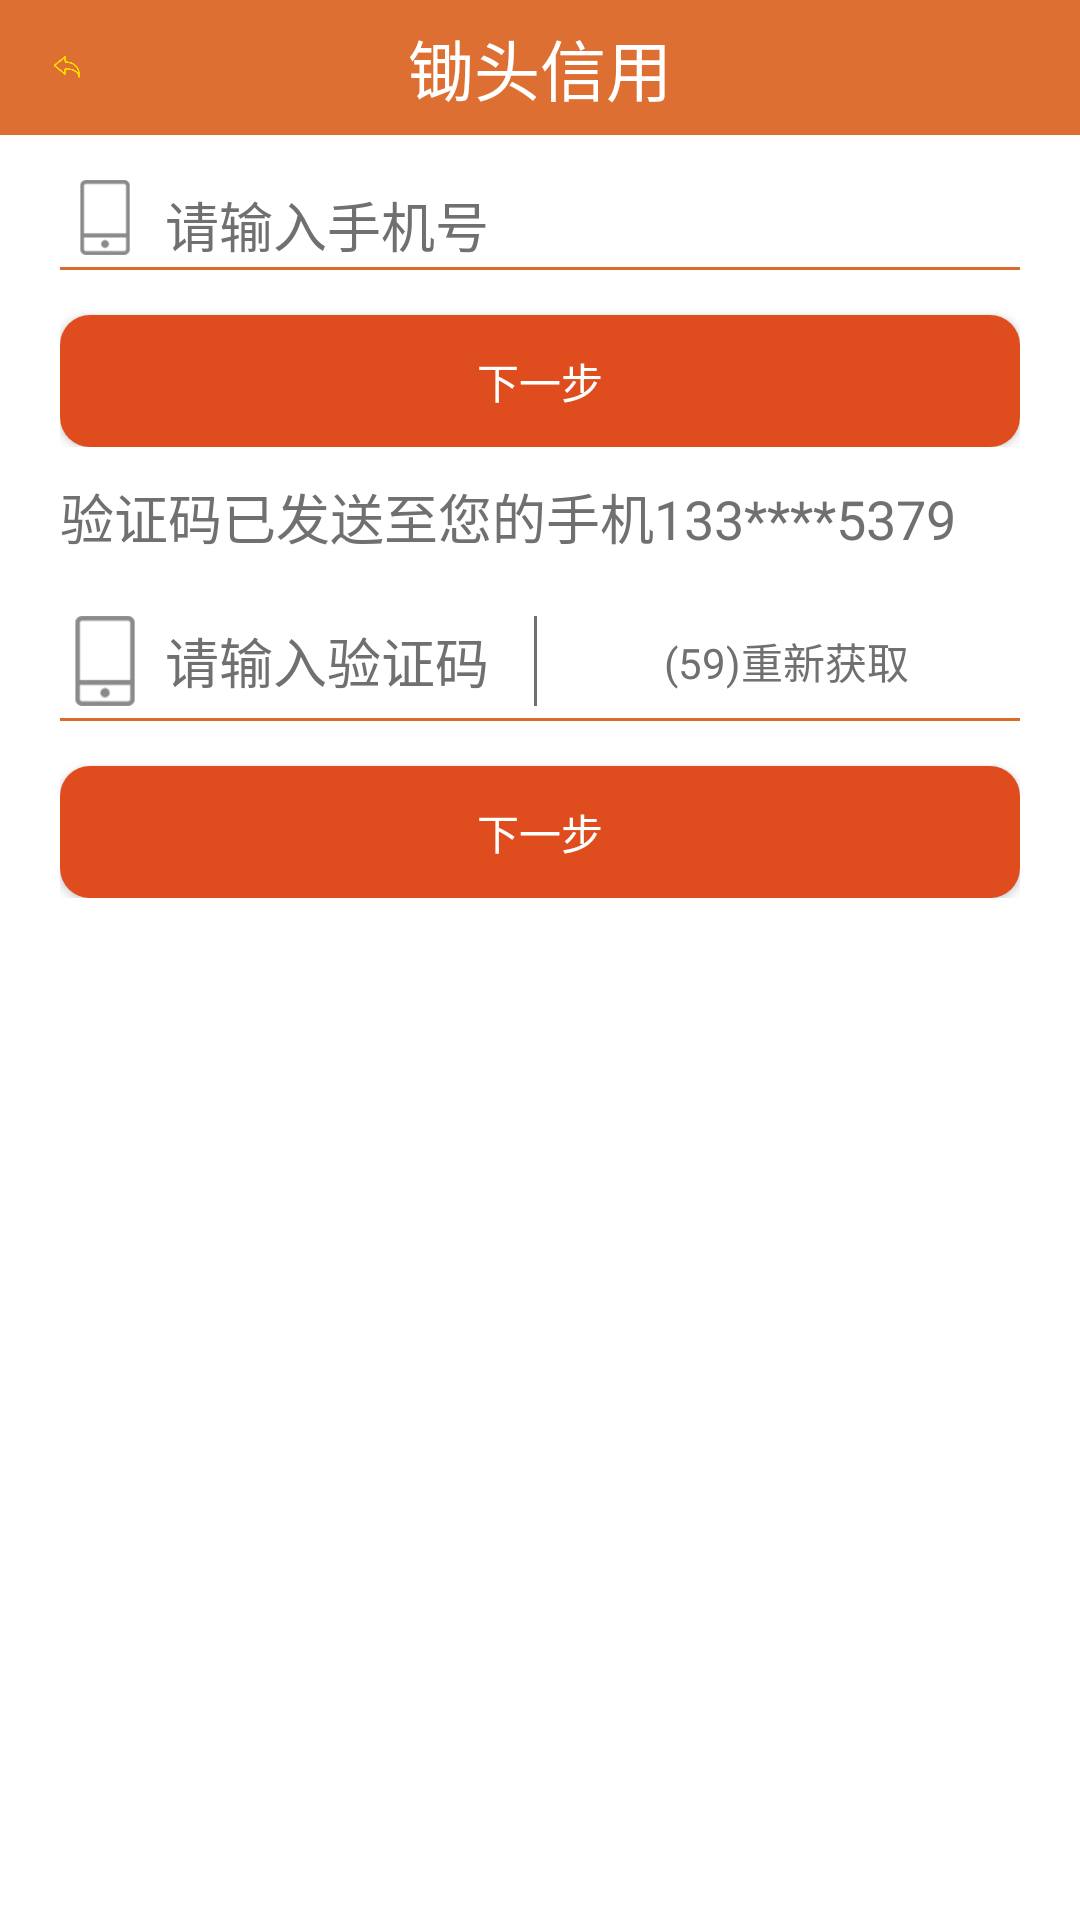

Icon bounding boxes for this 1080px x 1920px phone screenshot, format (x1, y1, x2, y2):
back: (54, 56, 80, 78)
phone: (80, 180, 130, 255), (75, 616, 135, 706)
